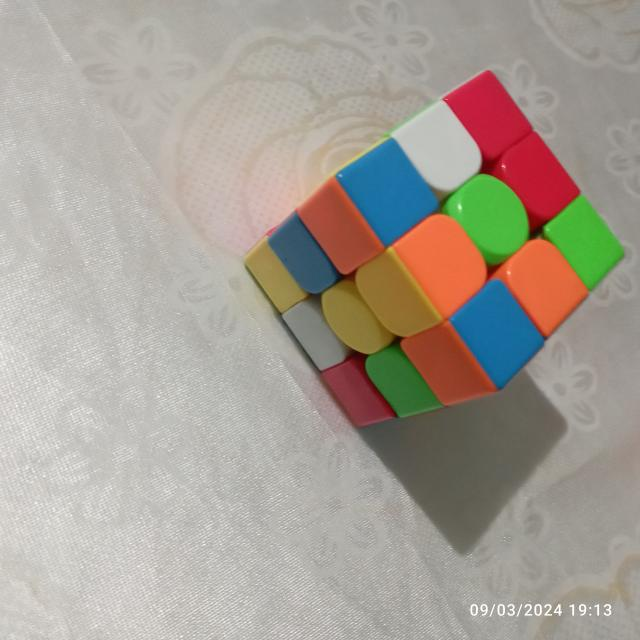Rub: (240, 63, 628, 434)
